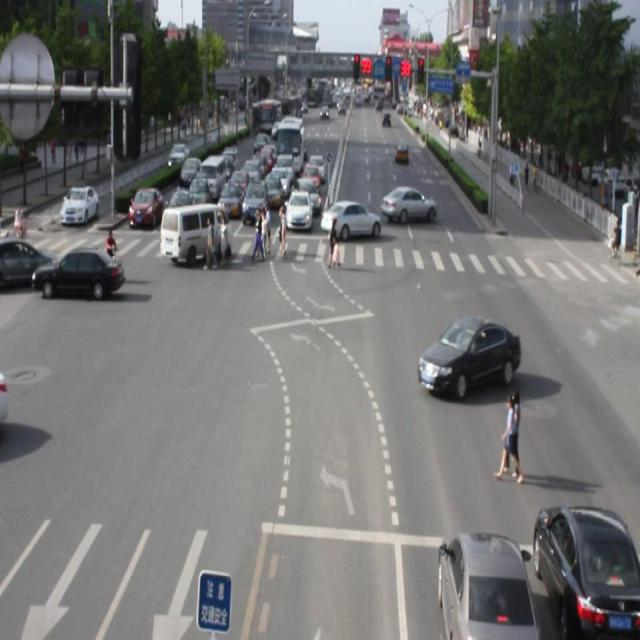car: (523, 495, 640, 640), (429, 524, 530, 640), (416, 314, 521, 398)
truck: (160, 200, 232, 262)
